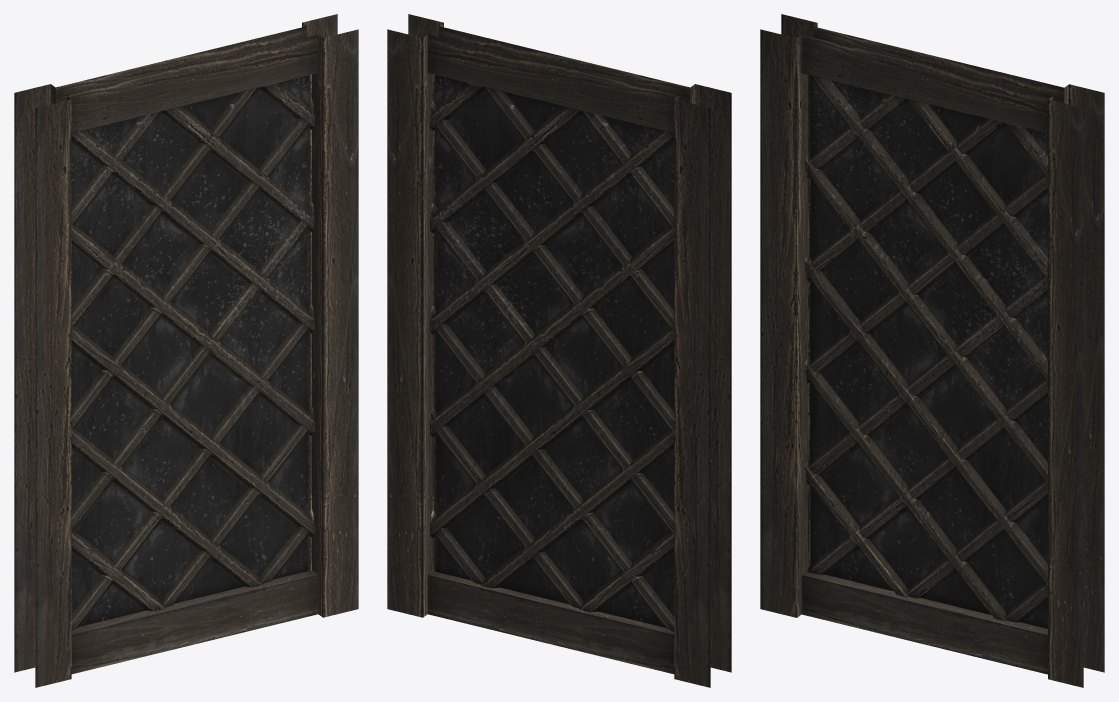
File: ARC1010367.fbx
3 renders of one model, left to right at view 1: azimuth 30°, elevation 25°; view 2: azimuth 150°, elevation 25°; view 3: azimuth 330°, elevation 25°, orthographic.
Visible parts, largest first — view 1: smARC1010367; view 2: smARC1010367; view 3: smARC1010367.
Part boxes in pixels (x1,y1,x2,y2): smARC1010367: (14, 14, 358, 687); smARC1010367: (387, 14, 731, 687); smARC1010367: (760, 14, 1104, 687).
Size of the model in its own units: 75.7 by 130 by 8.5.
Materials: 1 (1 with a texture image).
